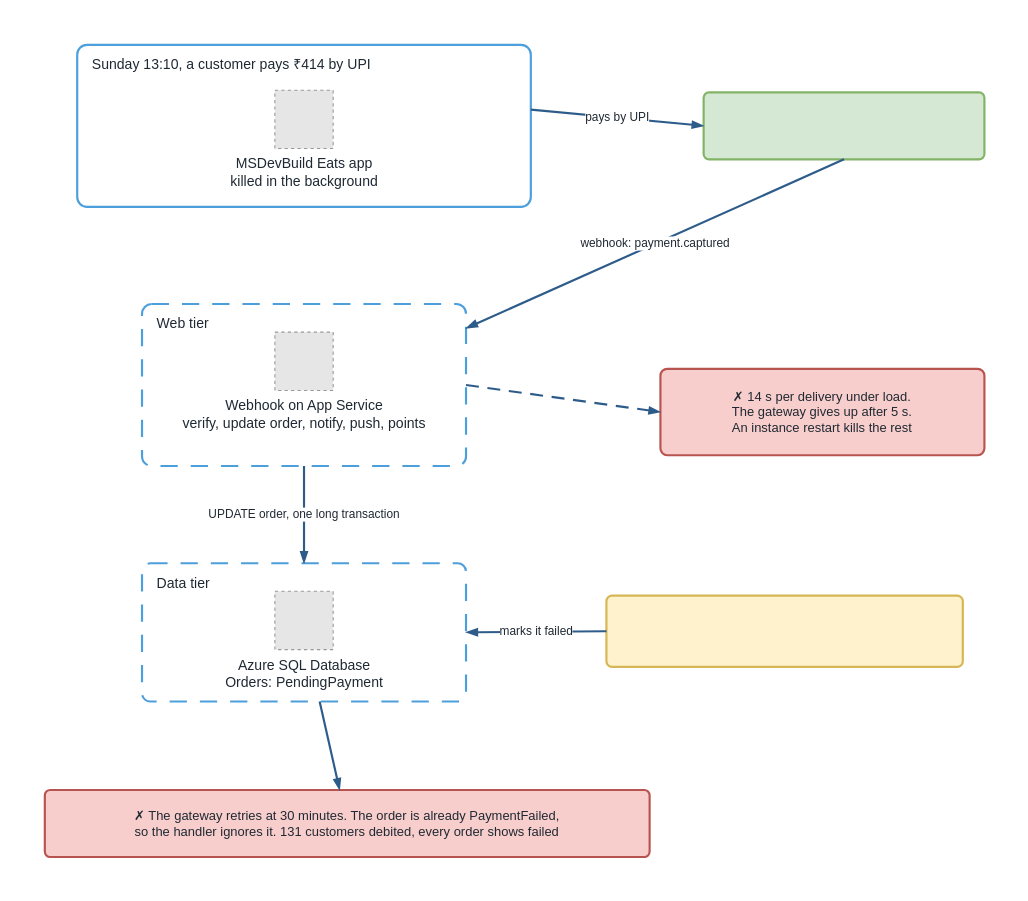
Image size: 1028x901. Some labels were removed from this diagram. Grey dashed boxes stand in for pictures. The shapes that lost their labels are listed below. From the top down, each one's centre as x and y in pixels, then its label:
[843,125]: Payment gateway ✓ ₹414 debited, payment captured
[784,630]: Expiry job, every minute PendingPayment for 10 min becomes PaymentFailed
